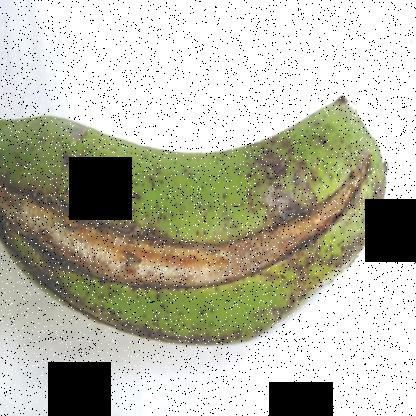rotten: (1, 146, 383, 299)
